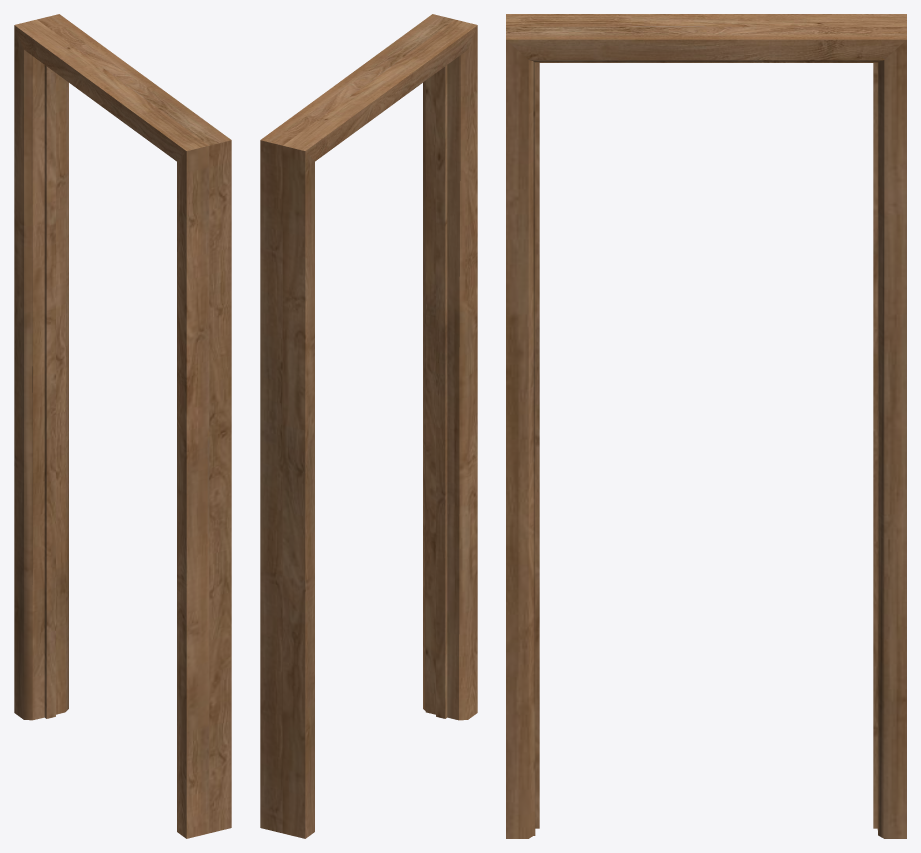
Rendered from Door0003.obj.
The picture shows the model from 3 angles, left to right: view 1: azimuth 30°, elevation 25°; view 2: azimuth 150°, elevation 25°; view 3: azimuth 270°, elevation 25°; orthographic projection. The views are drawn at different scales.
Bounding box in the file's own units: 0.146 × 2.12 × 0.964.
1 material, 1 textured.
